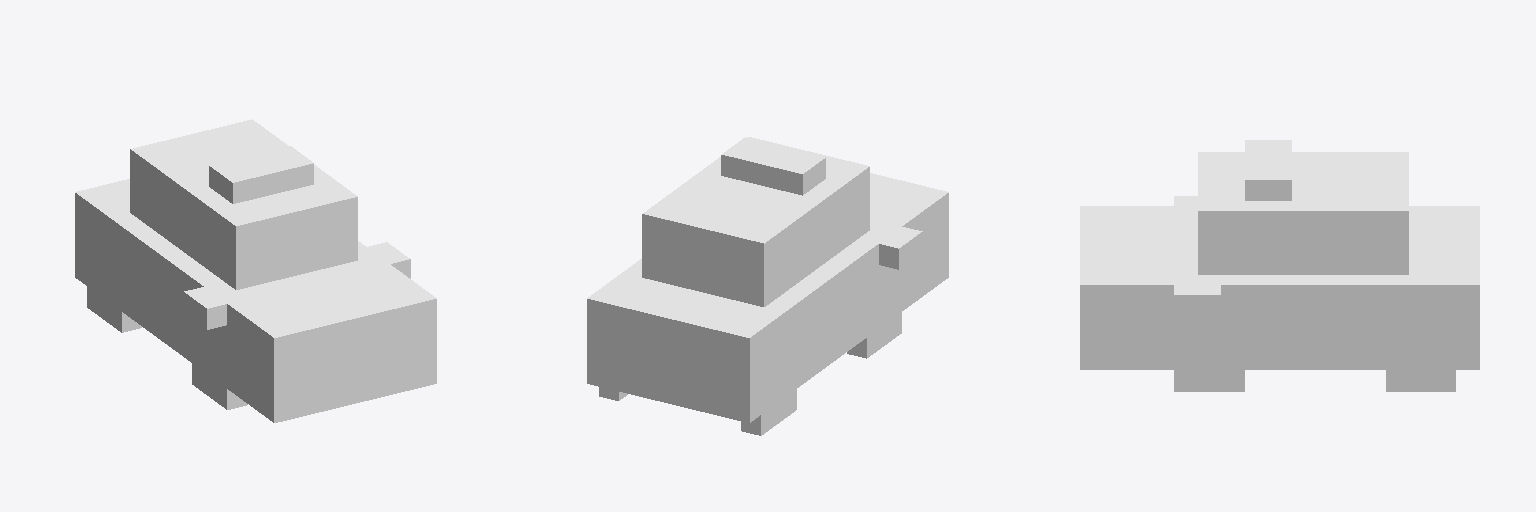
Rendered from CrossyTaxi.obj.
3 renders of one model, left to right at view 1: azimuth 30°, elevation 25°; view 2: azimuth 150°, elevation 25°; view 3: azimuth 270°, elevation 25°, orthographic.
Parts seen in each view (by area): view 1: object 1; view 2: object 1; view 3: object 1.
Part boxes in pixels (x1,y1,x2,y2): object 1: (75, 119, 436, 422); object 1: (587, 137, 948, 435); object 1: (1080, 140, 1479, 391).
Size of the model in its own units: 1 by 0.9 by 1.7.